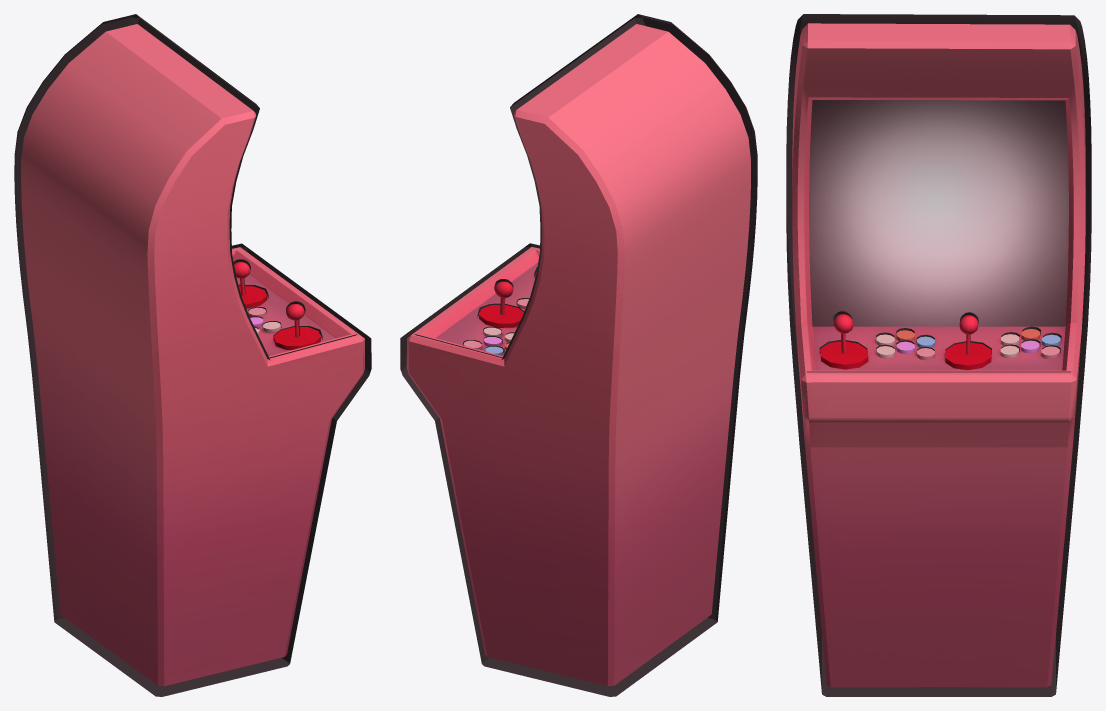
File: Arcade.fbx
3 renders of one model, left to right at view 1: azimuth 30°, elevation 25°; view 2: azimuth 150°, elevation 25°; view 3: azimuth 270°, elevation 25°, orthographic. The views are drawn at different scales.
Visible parts, largest first — view 1: Arcade; view 2: Arcade; view 3: Arcade.
Boxes of the visible parts, x1,y1,x2,y2 form: Arcade: [14, 14, 371, 696]; Arcade: [400, 14, 757, 696]; Arcade: [786, 14, 1091, 696].
Bounding box in the file's own units: 97.87 × 235 × 101.
